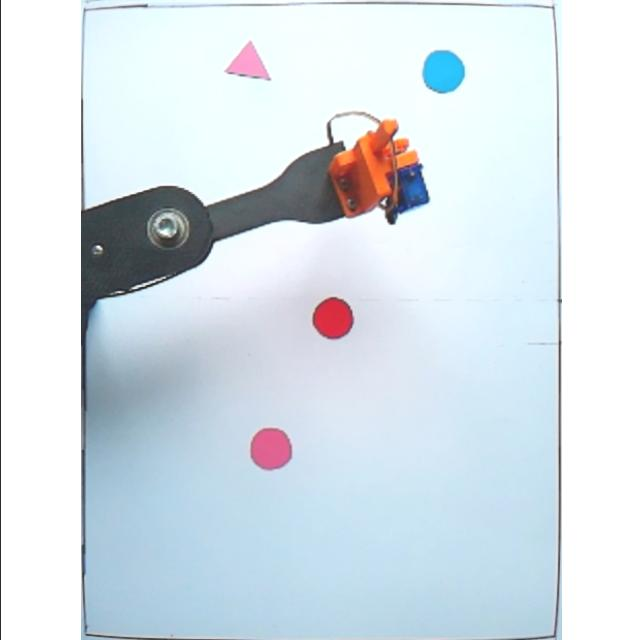blueCircle: (416, 48, 468, 94)
pinkCircle: (244, 427, 292, 471)
pinkTriangle: (221, 41, 269, 83)
redCircle: (309, 296, 353, 340)
